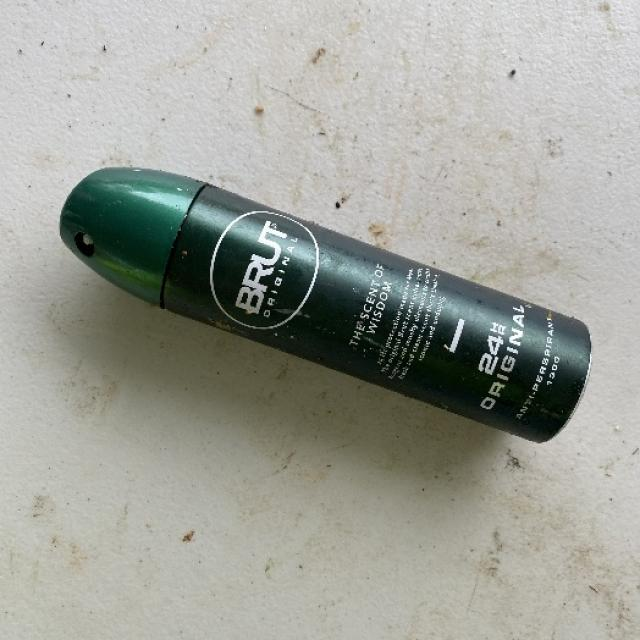metal: (58, 164, 592, 443)
